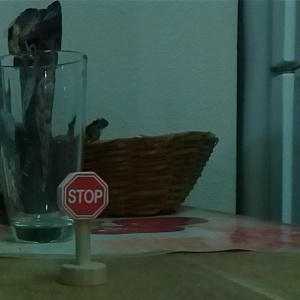stop sign: (53, 168, 114, 289)
